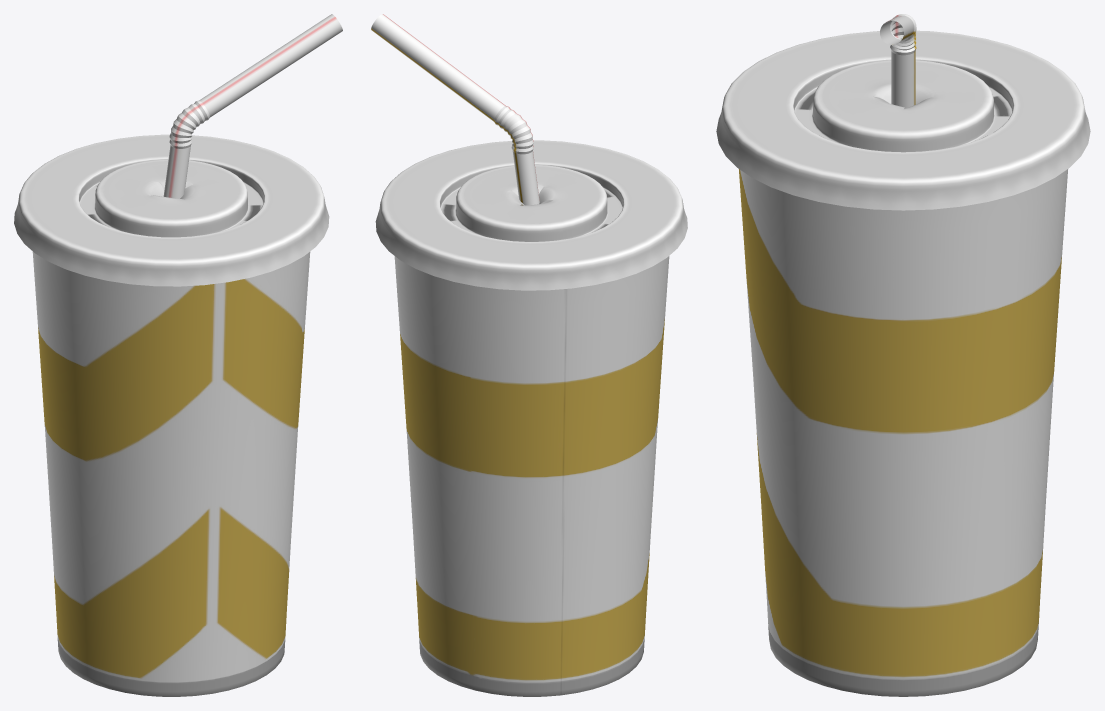
3 views of the same model, side by side, from view 1: azimuth 30°, elevation 25°; view 2: azimuth 150°, elevation 25°; view 3: azimuth 270°, elevation 25° (orthographic). The views are drawn at different scales.
Parts seen in each view (by area): view 1: Cup_Low, Lid_Low, Straw_Low; view 2: Cup_Low, Lid_Low, Straw_Low; view 3: Cup_Low, Lid_Low, Straw_Low.
Boxes of the visible parts, box(x1,y1,x2,y2) form: Cup_Low: box(32, 251, 310, 696); Lid_Low: box(14, 134, 329, 286); Straw_Low: box(163, 14, 342, 198); Cup_Low: box(394, 200, 669, 696); Lid_Low: box(375, 140, 687, 290); Straw_Low: box(371, 14, 539, 205); Cup_Low: box(739, 96, 1067, 696); Lid_Low: box(716, 30, 1090, 210); Straw_Low: box(880, 14, 916, 108).
Size of the model in its own units: 2.64 by 5.02 by 2.4.
Materials: 1 (1 with a texture image).
